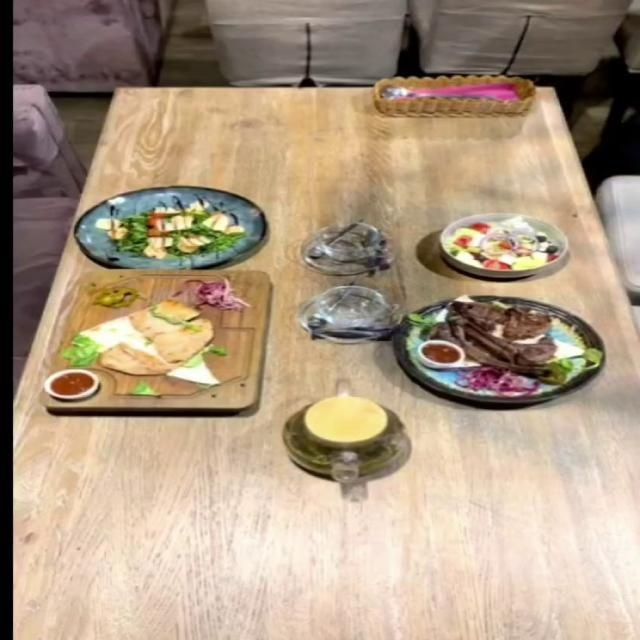meat: (47, 272, 271, 414), (390, 295, 606, 405)
salad: (68, 185, 260, 267), (438, 212, 570, 276)
tea: (280, 394, 409, 484)
